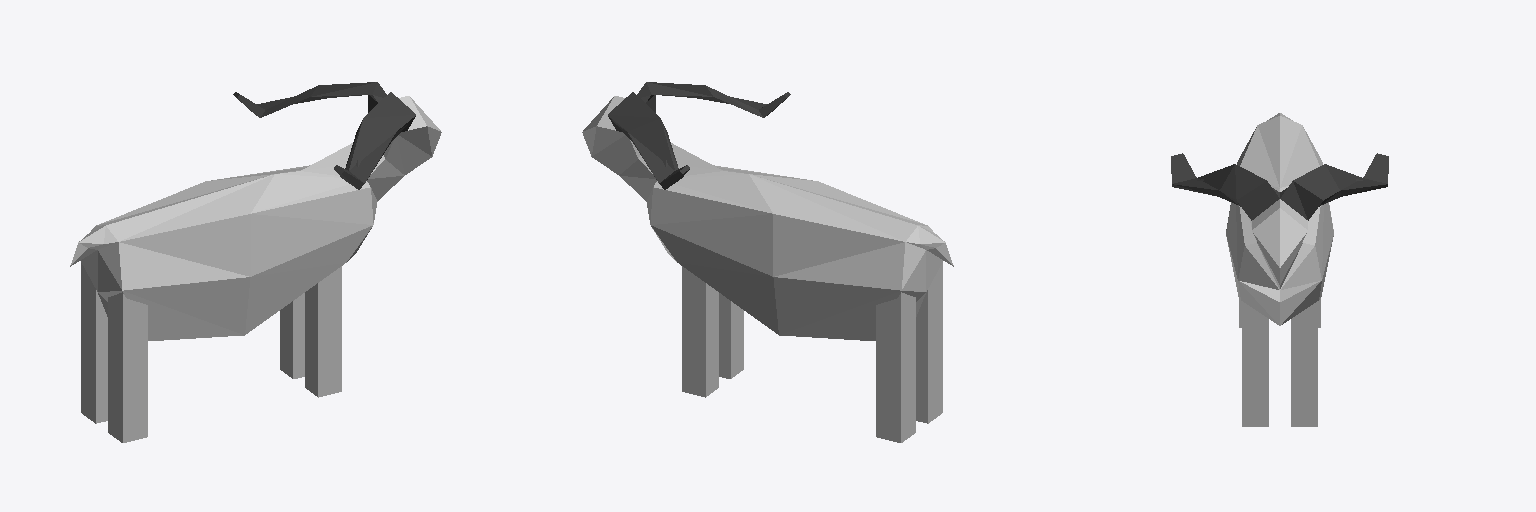
The model's file is goat.obj.
The picture shows the model from 3 angles: view 1: azimuth 30°, elevation 25°; view 2: azimuth 150°, elevation 25°; view 3: azimuth 270°, elevation 25°; orthographic projection.
Parts seen in each view (by area): view 1: Cube; view 2: Cube; view 3: Cube.
Boxes of the visible parts, x1=… form: Cube: x1=70, y1=82, x2=441, y2=442; Cube: x1=582, y1=82, x2=953, y2=442; Cube: x1=1171, y1=113, x2=1388, y2=426.
Bounding box in the file's own units: 2.88 × 2.04 × 1.46.